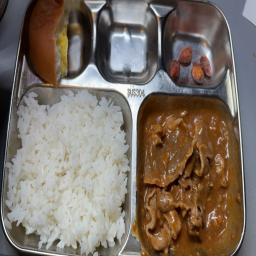100_beef: (136, 98, 240, 252)
100_rice: (16, 85, 126, 253)
25_nuts: (164, 15, 226, 90)
50_bread: (29, 0, 88, 82)
empty: (100, 8, 154, 82)
